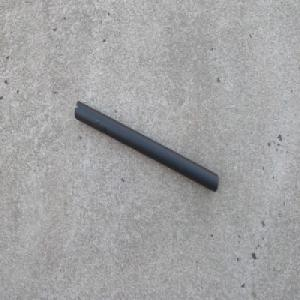LuggagePart: (73, 99, 219, 193)
